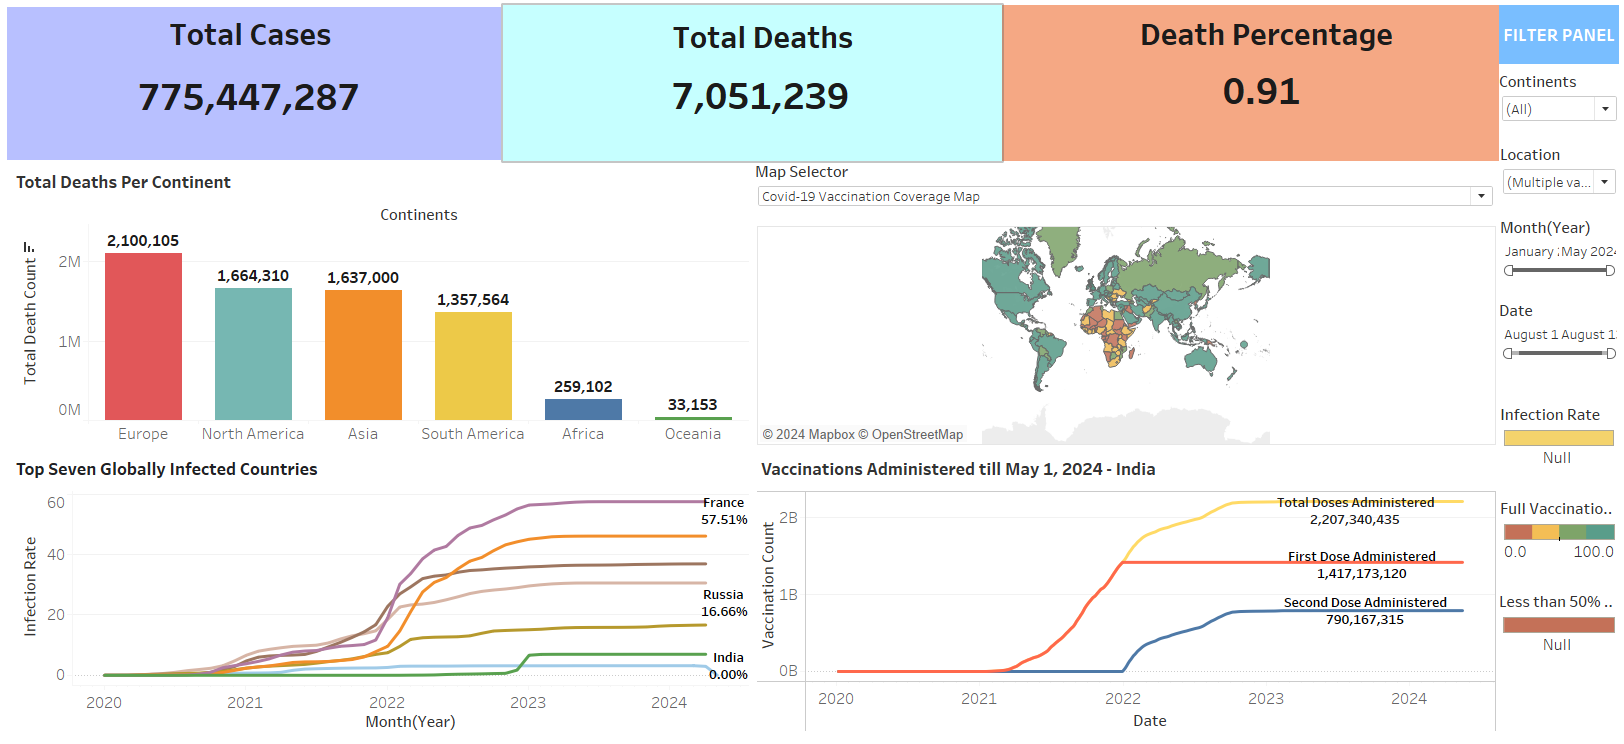

What the dashboard file says about the page in this screenshot:
{"tool":"tableau","page":{"name":"Dashboard 2","canvas":[1000,1000],"units":"permille","ordinal":1},"visuals":[{"type":"blank","box":[308.7,10.7,306.9,208.8]},{"type":"blank","box":[615.6,10.7,305.1,208.8]},{"type":"text","box":[920.7,10.7,73.9,79]},{"type":"blank","box":[4.2,13.4,303.3,204.8]},{"type":"text","box":[94.2,13.4,119.8,68.3]},{"type":"text","box":[410.6,13.4,116.8,76.3]},{"type":"text","box":[694.7,13.4,166.5,68.3]},{"type":"text","box":[736,80.3,78.1,85.7]},{"type":"text","box":[77.4,83,151.1,95]},{"type":"text","box":[399.9,89.7,134.7,80.3]},{"type":"filter","title":"Sheet 2","param":"[federated.1wt1pql0g3v41a15z6jaz0rk241z].[none:location:nk]","box":[920.7,99.1,74.5,84.3]},{"type":"filter","title":"Sheet 4","param":"[federated.1t8ocvw10widse1bjurdl0y3q5hg].[none:location:nk]","box":[921.3,196.8,73.3,73.6]},{"type":"parameter","param":"[Parameters].[Parameter 1]","box":[463.7,219.5,455.3,73.6]},{"type":"worksheet","title":"Sheet 2","mark":"Automatic","rows":["TotalDeathCount"],"cols":["location"],"box":[4.9,220.6,457.6,384.2]},{"type":"worksheet","title":"Sheet 3","mark":"Automatic","box":[462.5,220.6,458.8,381.5]},{"type":"filter","title":"Sheet 4","param":"[federated.1t8ocvw10widse1bjurdl0y3q5hg].[tmn:date:qk]","box":[921.3,294.5,73.3,93.7]},{"type":"filter","title":"Sheet 7","param":"[federated.0exafp30veyme31d7q5lt0nsdvhd].[tdy:date:qk]","box":[920.7,405.6,74.5,95]},{"type":"legend","title":"Sheet 3","param":"[federated.0kp8ir50qrap6l1bernft1j6ppgl].[sum:Highest_Infection_Rate:qk]","box":[921.3,544.9,72.7,93.7]},{"type":"worksheet","title":"Sheet 5","mark":"Automatic","box":[462.5,602.2,458.8,1.3]},{"type":"worksheet","title":"Sheet 6","mark":"Automatic","box":[462.5,603.5,458.8,1.3]},{"type":"worksheet","title":"Sheet 4","mark":"Automatic","rows":["Highest_Infection_Rate"],"cols":["date"],"box":[4.9,604.8,457.6,384.4]},{"type":"worksheet","title":"Sheet 7","mark":"Automatic","rows":["Full_Vaccination_Count"],"cols":["date"],"box":[462.5,604.8,458.8,384.4]},{"type":"legend","title":"Sheet 6","param":"[federated.09ohljt1tntq451095iph1sn1p5h].[max:Full_Vaccination_Percentage:qk]","box":[921.3,670.7,73.3,100.4]},{"type":"legend","title":"Sheet 5","param":"[federated.09ohljt1tntq451095iph1sn1p5h].[max:Full_Vaccination_Percentage:qk]","box":[920.8,795.2,73.7,117.8]}]}

Visuals, with their boxes on the dashboard's canvas, which has no fixed pixel size, in thousandths of its width and height (x1, y1, x2, y2). These are canvas units, not pixel positions in the 1624x744 screenshot, which may show the page scaled, cropped or inside an application window:
blank: x1=309, y1=11, x2=616, y2=220
blank: x1=616, y1=11, x2=921, y2=220
text: x1=921, y1=11, x2=995, y2=90
blank: x1=4, y1=13, x2=308, y2=218
text: x1=94, y1=13, x2=214, y2=82
text: x1=411, y1=13, x2=527, y2=90
text: x1=695, y1=13, x2=861, y2=82
text: x1=736, y1=80, x2=814, y2=166
text: x1=77, y1=83, x2=228, y2=178
text: x1=400, y1=90, x2=535, y2=170
"Sheet 2" filter: x1=921, y1=99, x2=995, y2=183
"Sheet 4" filter: x1=921, y1=197, x2=995, y2=270
parameter: x1=464, y1=220, x2=919, y2=293
"Sheet 2" worksheet: x1=5, y1=221, x2=462, y2=605
"Sheet 3" worksheet: x1=462, y1=221, x2=921, y2=602
"Sheet 4" filter: x1=921, y1=294, x2=995, y2=388
"Sheet 7" filter: x1=921, y1=406, x2=995, y2=501
"Sheet 3" legend: x1=921, y1=545, x2=994, y2=639
"Sheet 5" worksheet: x1=462, y1=602, x2=921, y2=604
"Sheet 6" worksheet: x1=462, y1=604, x2=921, y2=605
"Sheet 4" worksheet: x1=5, y1=605, x2=462, y2=989
"Sheet 7" worksheet: x1=462, y1=605, x2=921, y2=989
"Sheet 6" legend: x1=921, y1=671, x2=995, y2=771
"Sheet 5" legend: x1=921, y1=795, x2=994, y2=913
